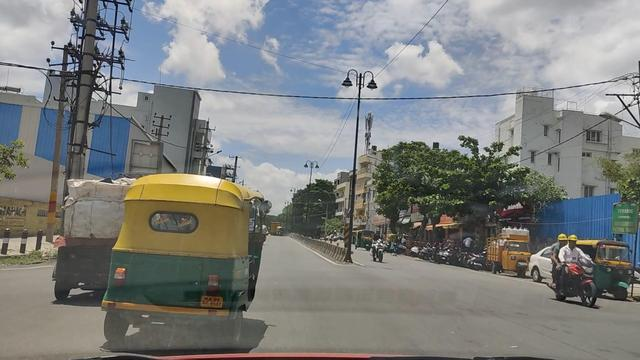LMV: (132, 188, 267, 353), (62, 179, 104, 304)
